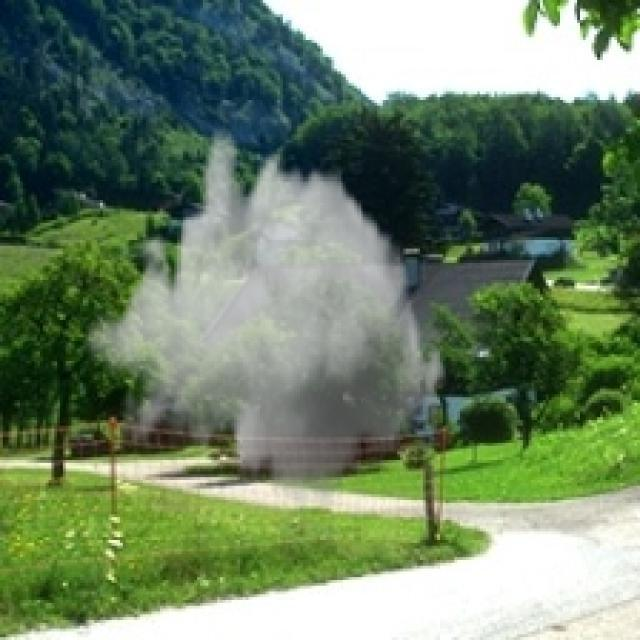Smoke: (82, 122, 448, 518)
